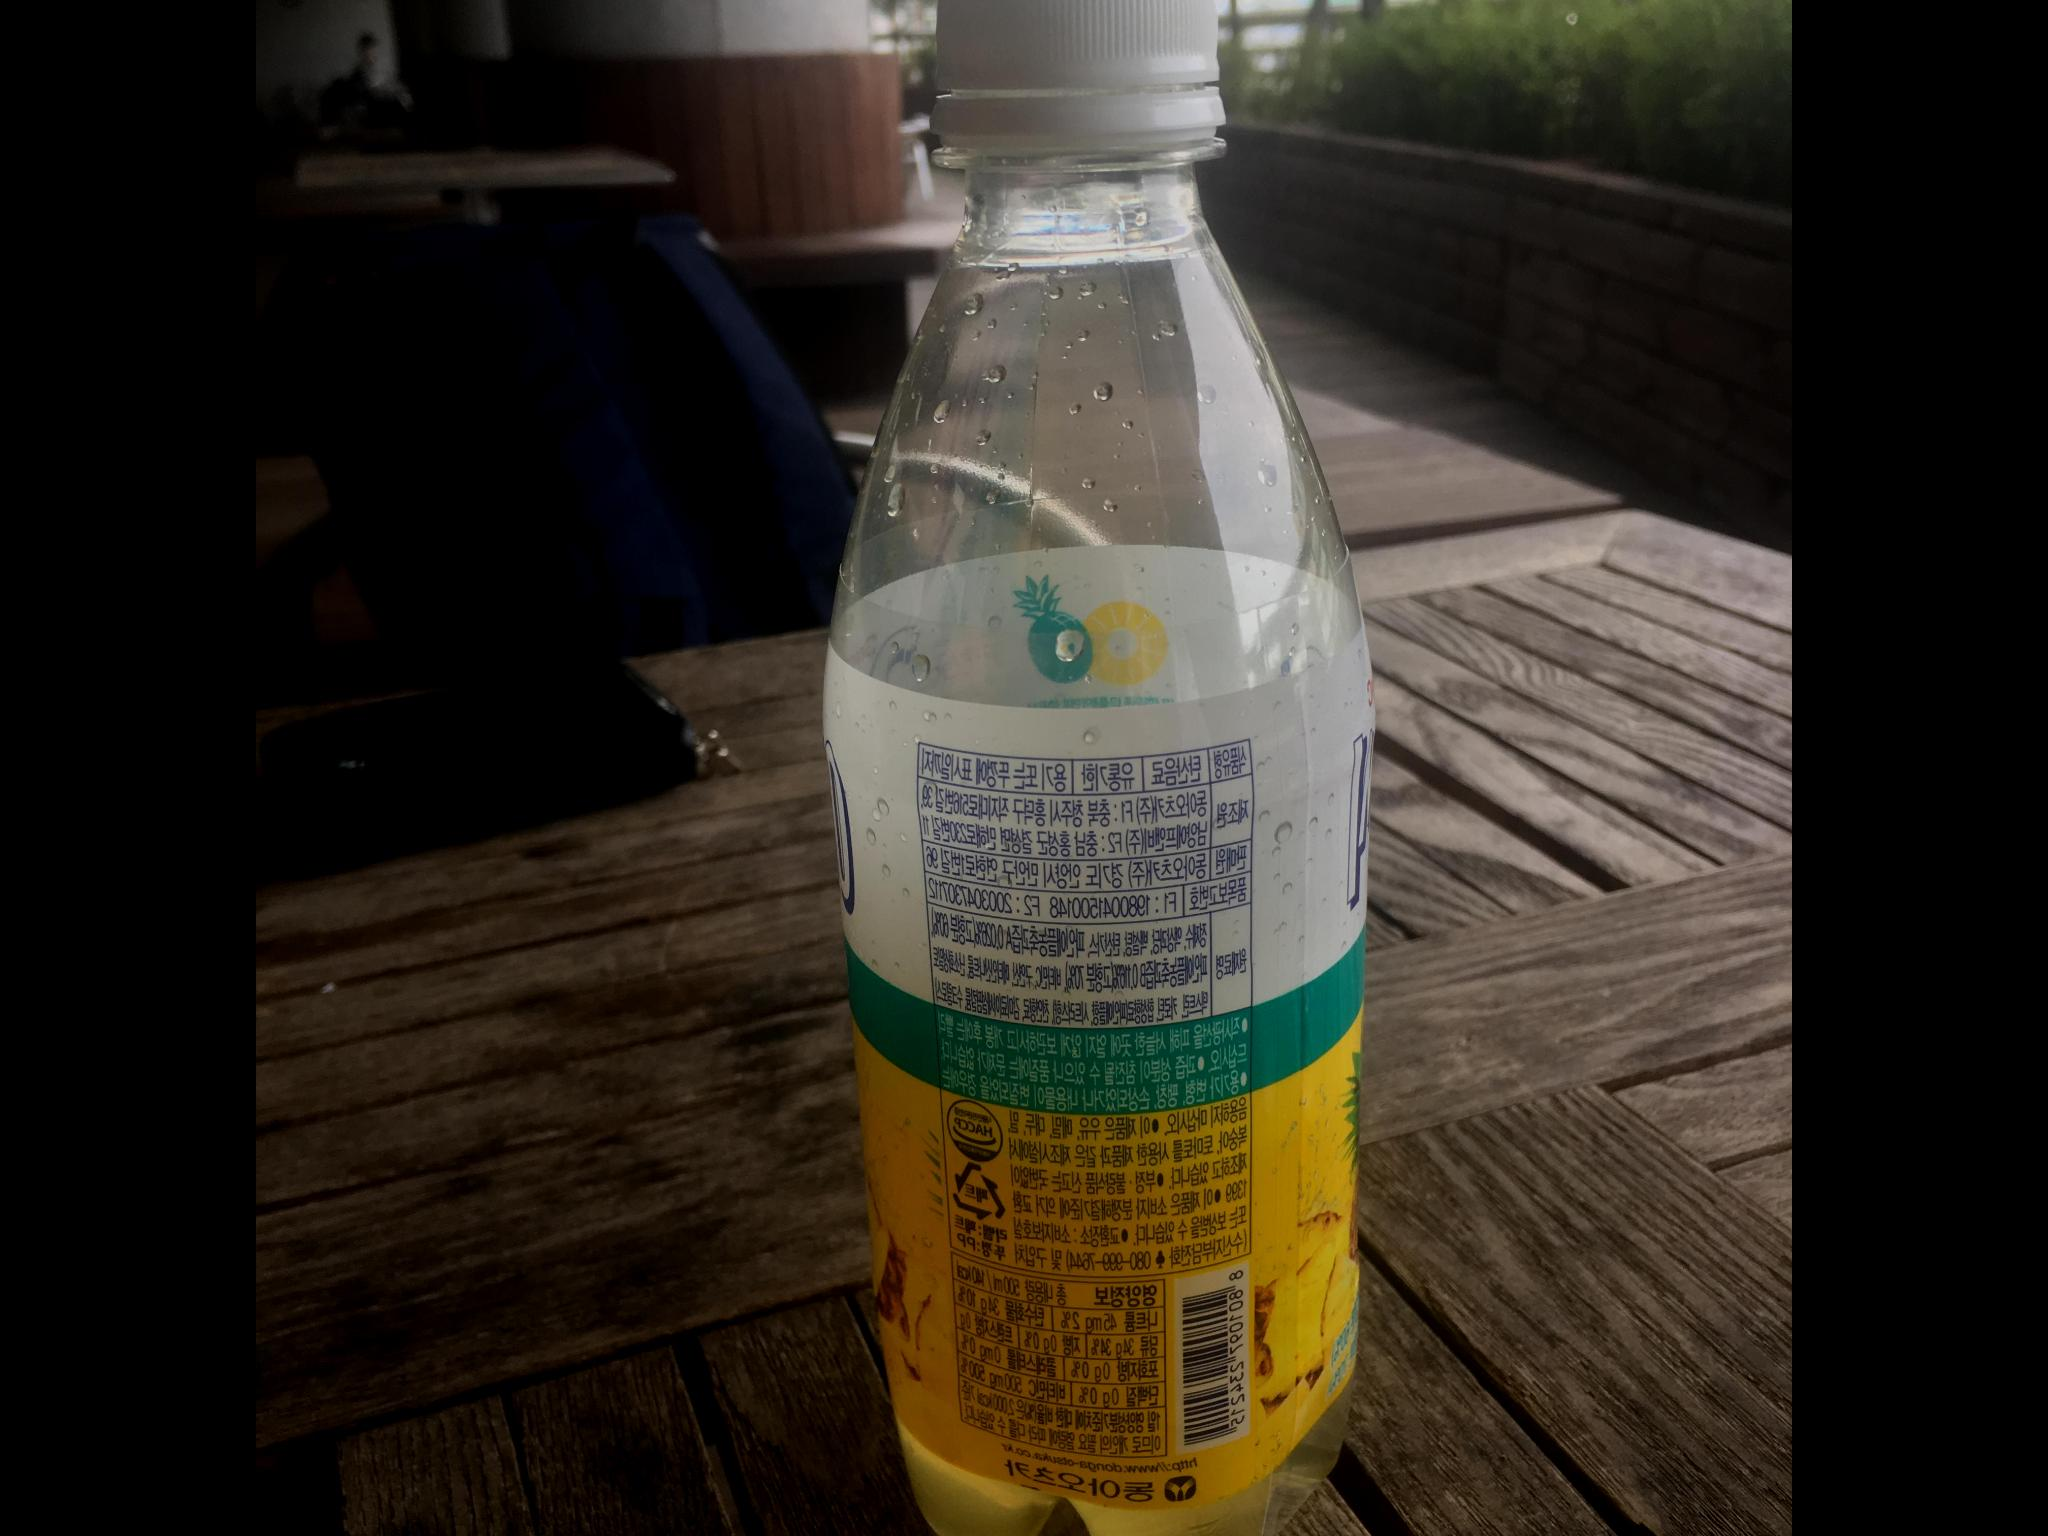bottle: (810, 0, 1384, 1536)
